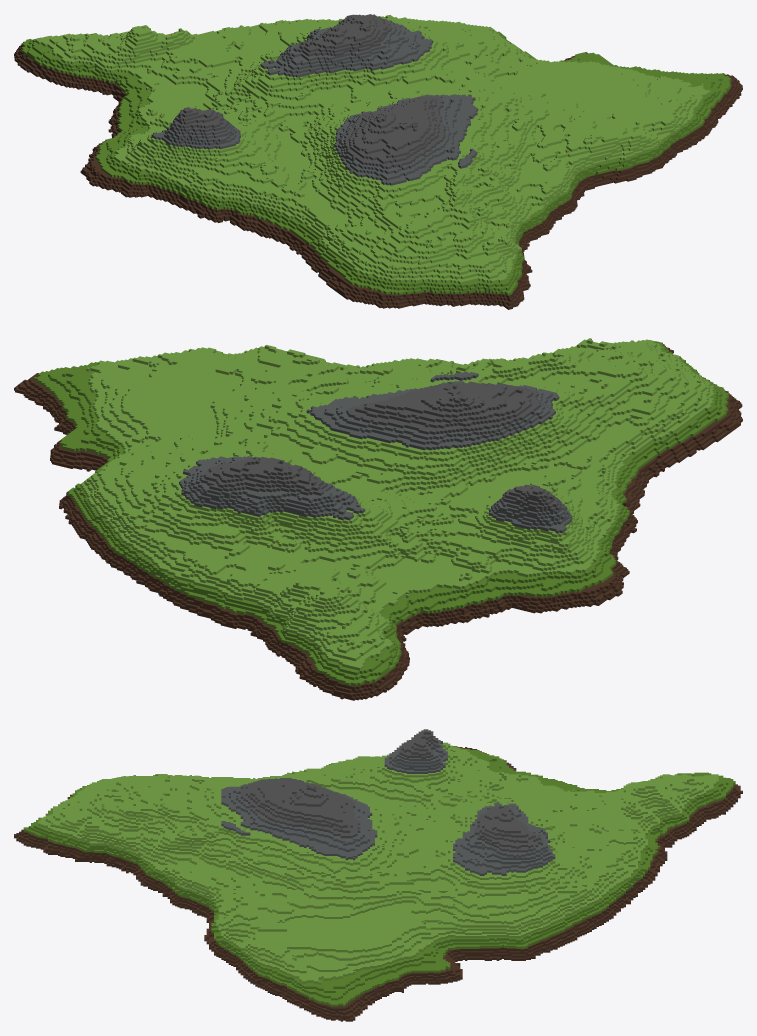
The model's file is voxel_landscape.glb.
3 renders of one model, top to bottom at view 1: azimuth 30°, elevation 25°; view 2: azimuth 150°, elevation 25°; view 3: azimuth 270°, elevation 25°, orthographic. The views are drawn at different scales.
Visible parts, largest first — view 1: Heightmap; view 2: Heightmap; view 3: Heightmap.
Boxes of the visible parts, box(x1,y1,x2,y2) form: Heightmap: box(14, 14, 742, 309); Heightmap: box(14, 338, 742, 700); Heightmap: box(14, 729, 742, 1021).
Size of the model in its own units: 262 by 29 by 299.
Materials: 1 (1 with a texture image).
